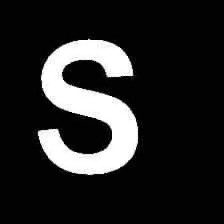LTR_S: (28, 35, 141, 175)
